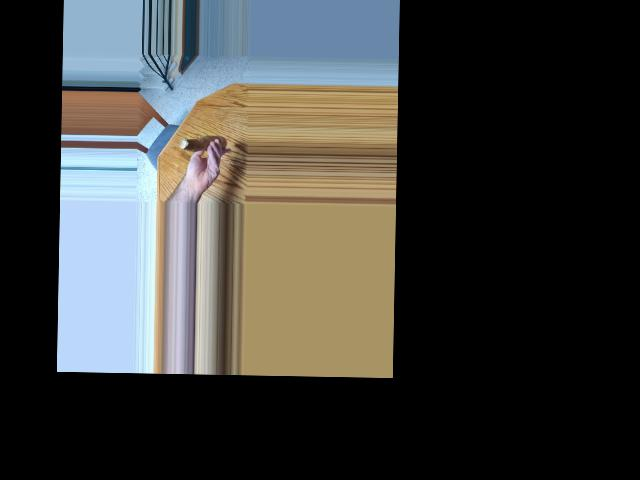sweet_potato: (183, 132, 222, 155)
